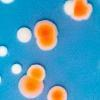orange: (17, 74, 45, 98), (31, 18, 60, 38), (68, 3, 94, 22), (25, 62, 47, 82), (34, 35, 59, 52), (45, 83, 68, 100), (67, 0, 90, 9)
white: (14, 26, 34, 45), (59, 0, 74, 18), (9, 61, 23, 76), (0, 42, 8, 59), (0, 0, 18, 6), (0, 73, 3, 85)
